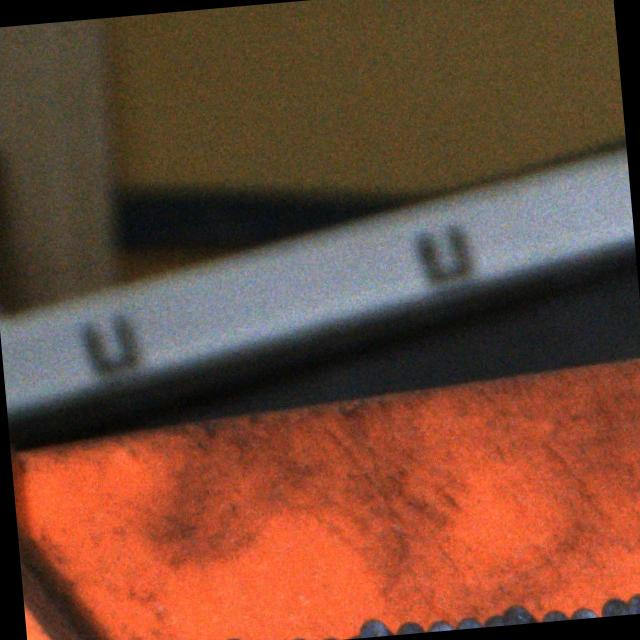tool: (502, 602, 535, 626), (358, 616, 390, 638), (599, 596, 628, 616), (452, 614, 482, 630), (570, 604, 600, 620), (540, 606, 568, 622), (396, 620, 426, 634), (428, 618, 454, 632), (482, 613, 507, 627), (626, 591, 640, 614), (219, 634, 249, 640), (286, 636, 315, 640), (254, 638, 283, 640)
